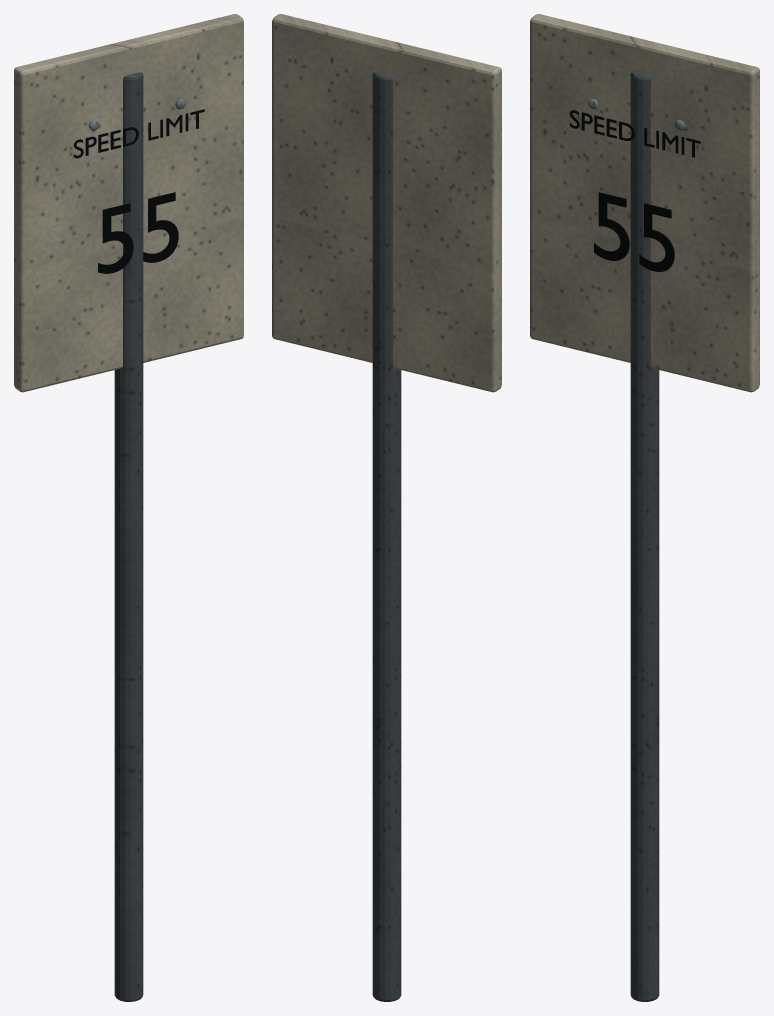
The model's file is PROP-2765DFD7C074_lod0.glb.
3 renders of one model, left to right at view 1: azimuth 30°, elevation 25°; view 2: azimuth 150°, elevation 25°; view 3: azimuth 330°, elevation 25°, orthographic.
Visible parts, largest first — view 1: sign_plate.020, sign_post.027, sign_letters_55, sign_letters_SPEED LIMIT.003; view 2: sign_plate.020, sign_post.027; view 3: sign_plate.020, sign_post.027, sign_letters_55, sign_letters_SPEED LIMIT.003.
Boxes of the visible parts, left/top/right/bottom form: sign_plate.020: left=14, top=14, right=243, bottom=392; sign_post.027: left=114, top=72, right=143, bottom=1001; sign_letters_55: left=98, top=192, right=178, bottom=273; sign_letters_SPEED LIMIT.003: left=73, top=109, right=204, bottom=158; sign_plate.020: left=272, top=14, right=501, bottom=392; sign_post.027: left=372, top=72, right=401, bottom=1001; sign_plate.020: left=530, top=14, right=759, bottom=392; sign_post.027: left=630, top=72, right=659, bottom=1001; sign_letters_55: left=594, top=192, right=674, bottom=271; sign_letters_SPEED LIMIT.003: left=569, top=110, right=700, bottom=157.
Bounding box in the file's own units: 0.62 × 2.52 × 0.084.
Materials: 4 (4 with a texture image).
